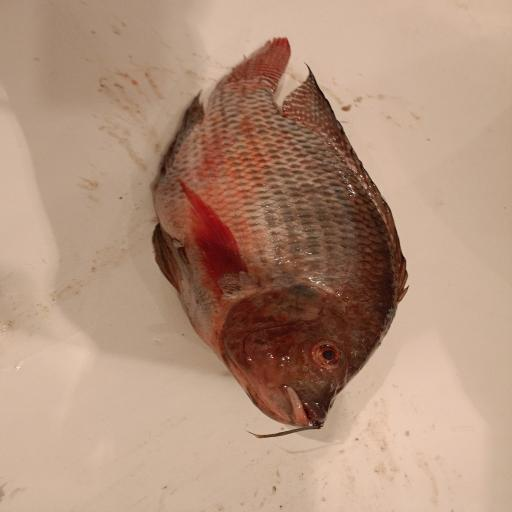Tilapia: (152, 37, 409, 430)
